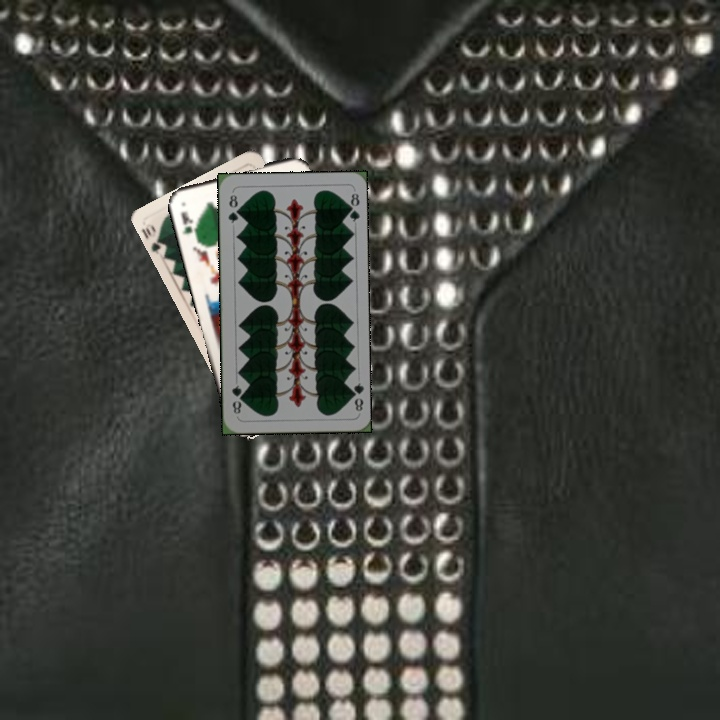G10: (138, 219, 170, 257)
G8: (346, 379, 366, 413), (224, 190, 242, 226)
GK: (177, 208, 200, 238)
